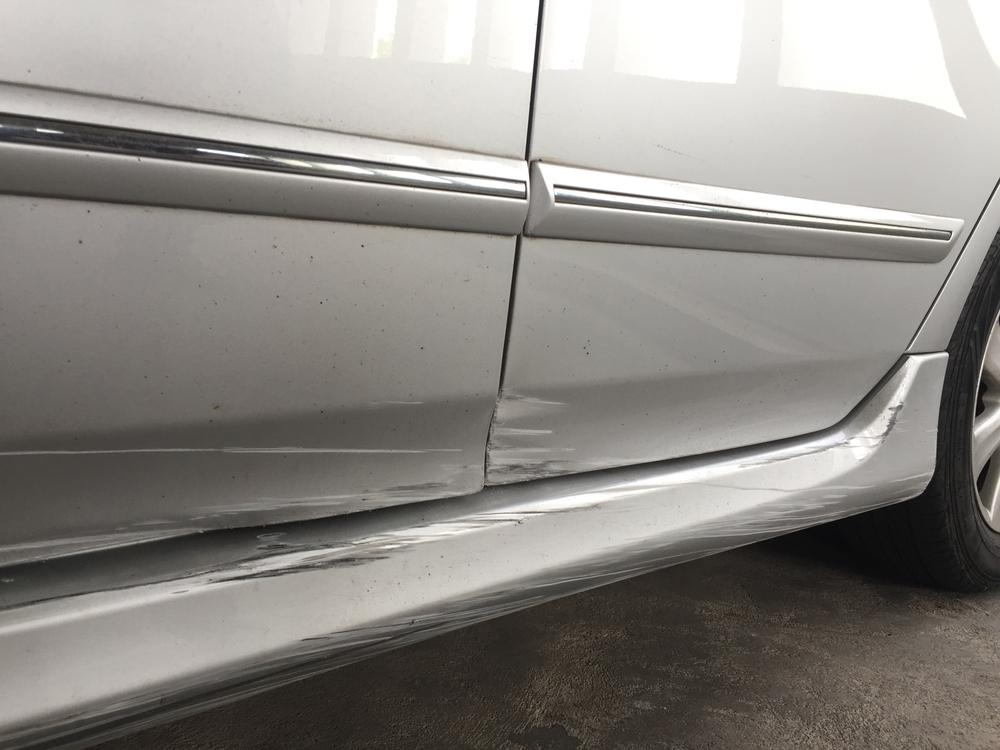scratch: (0, 479, 925, 750), (179, 432, 856, 591), (0, 444, 473, 567), (482, 388, 587, 485)
